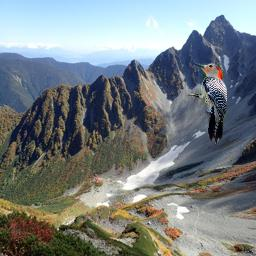Woodpecker: (186, 63, 227, 144)
